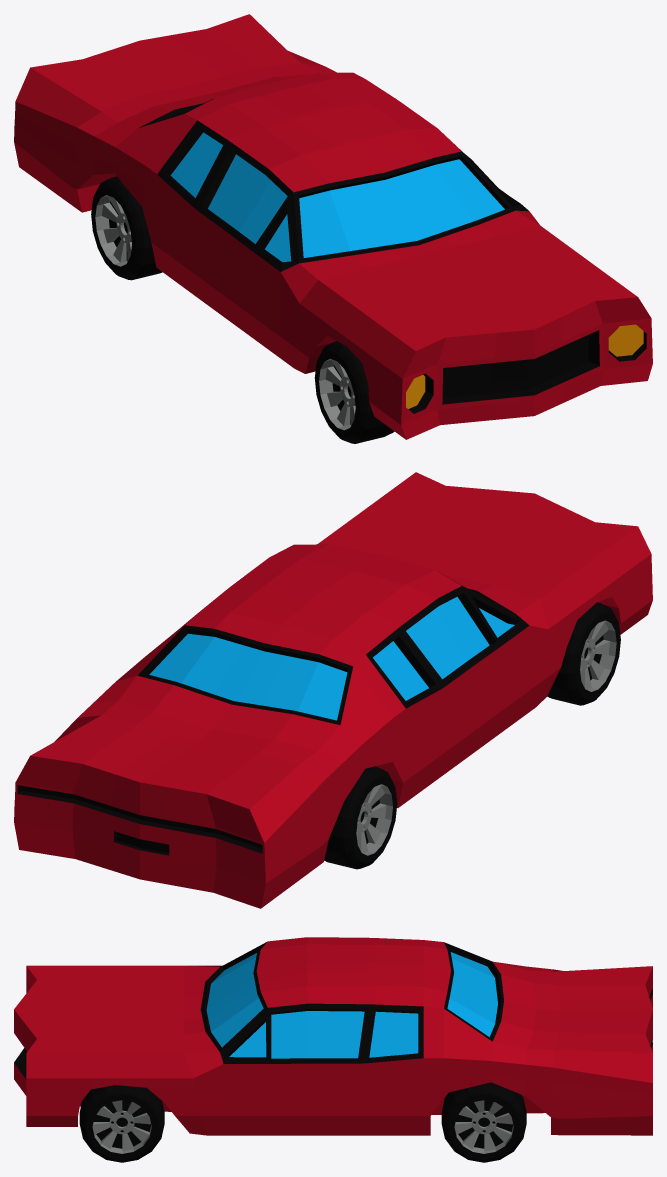
File: Prototype_01.fbx
The picture shows the model from 3 angles, top to bottom: view 1: azimuth 30°, elevation 25°; view 2: azimuth 150°, elevation 25°; view 3: azimuth 270°, elevation 25°; orthographic projection. The views are drawn at different scales.
Visible parts, largest first — view 1: Body_LowPoly, Wheel_F_R, Wheel_R_R; view 2: Body_LowPoly, Wheel_R_R, Wheel_F_R; view 3: Body_LowPoly, Wheel_R_L, Wheel_F_L.
Part boxes in pixels (box(x1,y1,x2,y2)): Body_LowPoly: box(14, 14, 652, 439); Wheel_F_R: box(314, 341, 394, 443); Wheel_R_R: box(91, 176, 162, 280); Body_LowPoly: box(14, 472, 652, 908); Wheel_R_R: box(324, 766, 397, 869); Wheel_F_R: box(547, 602, 620, 705); Body_LowPoly: box(14, 937, 652, 1135); Wheel_R_L: box(441, 1082, 526, 1162); Wheel_F_L: box(79, 1085, 164, 1162).
Size of the model in its own units: 13.04 by 4.97 by 3.4.
